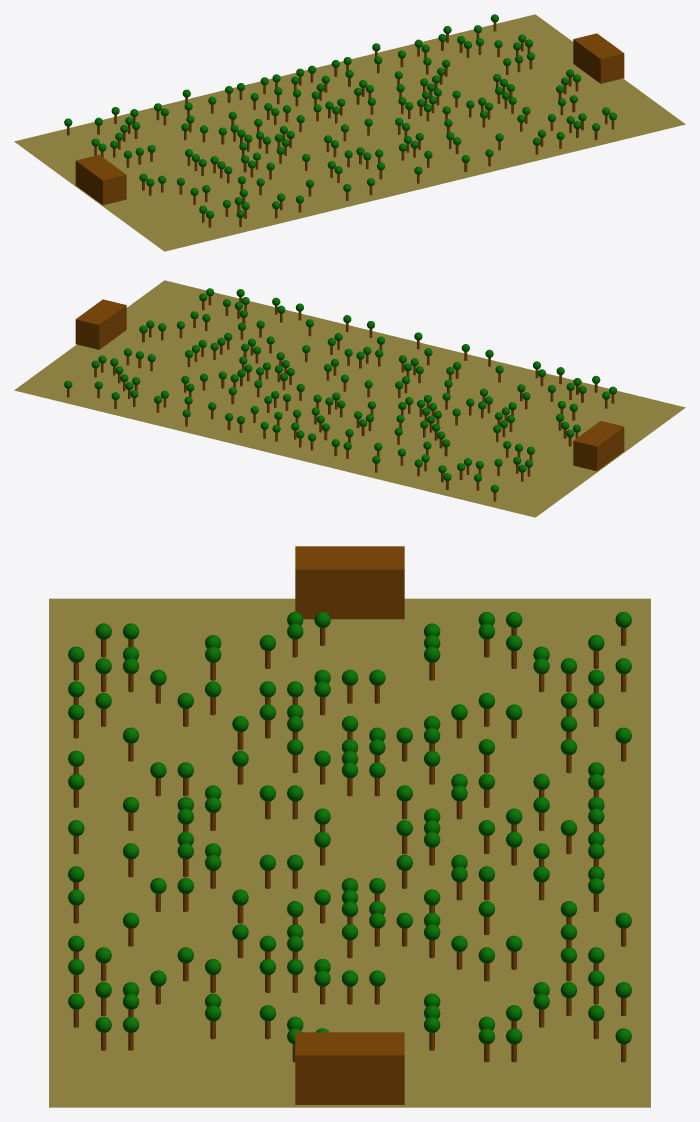
File: map.fbx
The picture shows the model from 3 angles, top to bottom: view 1: azimuth 30°, elevation 25°; view 2: azimuth 150°, elevation 25°; view 3: azimuth 270°, elevation 25°; orthographic projection. The views are drawn at different scales.
Parts seen in each view (by area): view 1: Plane, Cube.001, Cube; view 2: Plane, Cube.001, Cube; view 3: Plane, Cube.001, Cube.
Part boxes in pixels (x1,y1,x2,y2): Plane: [14, 14, 685, 251]; Cube.001: [573, 33, 624, 83]; Cube: [75, 155, 126, 205]; Plane: [14, 280, 685, 517]; Cube.001: [75, 299, 126, 349]; Cube: [573, 421, 624, 471]; Plane: [49, 598, 650, 1107]; Cube.001: [295, 1032, 404, 1104]; Cube: [295, 546, 404, 619].
Size of the model in its own units: 44 by 2.1 by 22.
